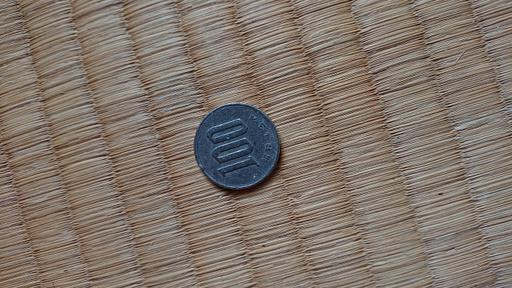100yen: (195, 104, 280, 189)
